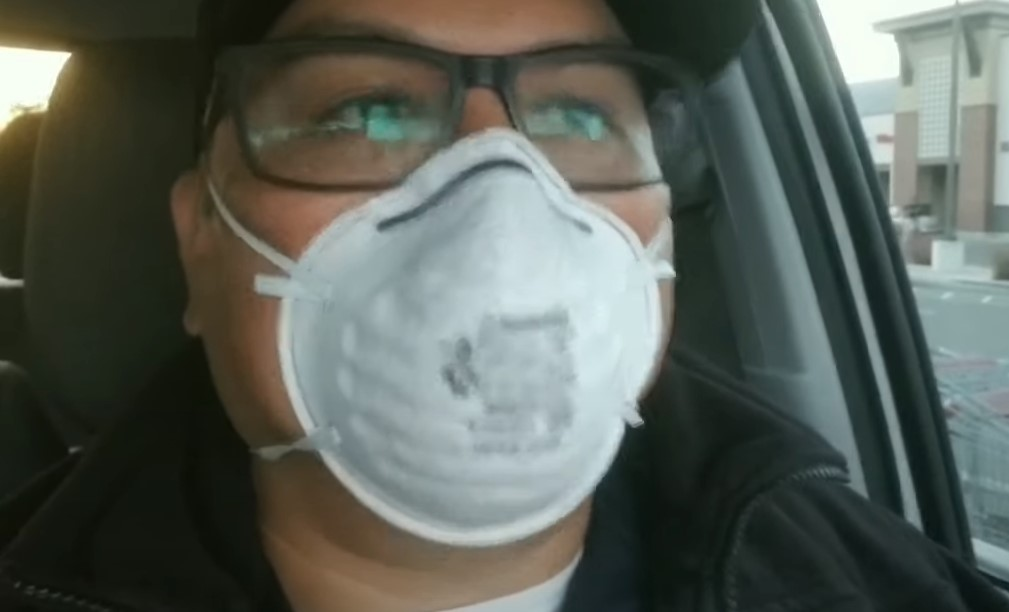face_with_mask: (163, 0, 723, 565)
